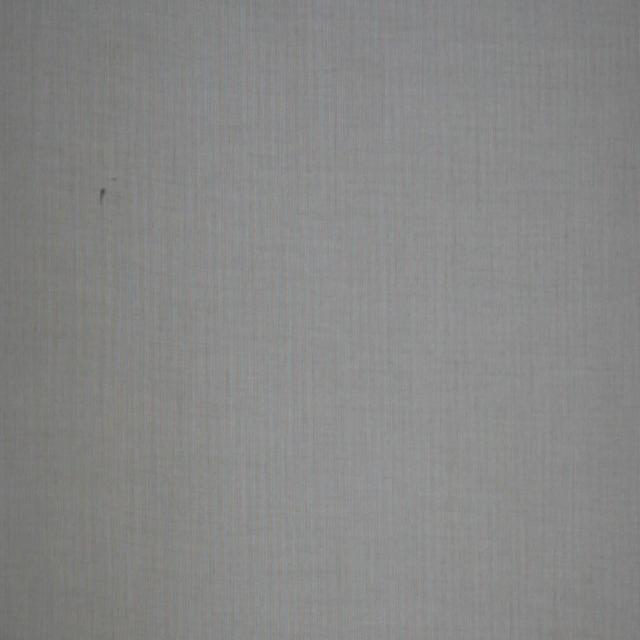dirty: (99, 183, 106, 205)
